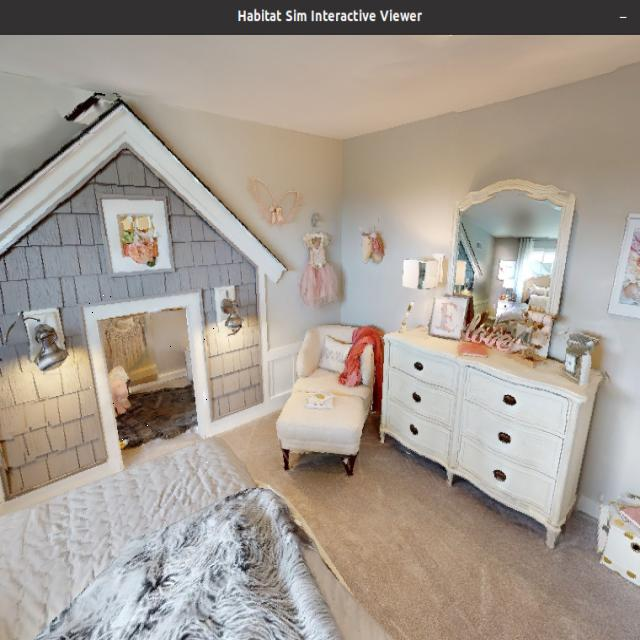door-frame: (89, 295, 220, 474)
sofa: (269, 316, 389, 490)
